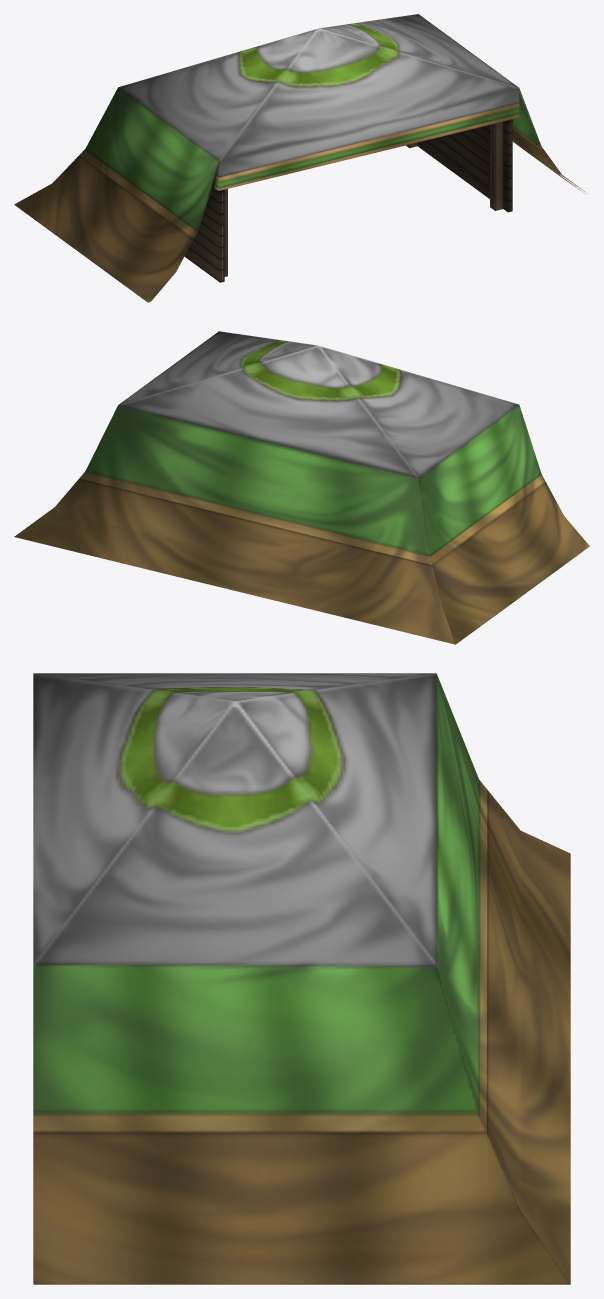
The model's file is tent_magic.fbx.
3 renders of one model, top to bottom at view 1: azimuth 30°, elevation 25°; view 2: azimuth 150°, elevation 25°; view 3: azimuth 270°, elevation 25°, orthographic. The views are drawn at different scales.
Visible parts, largest first — view 1: Magic_tent; view 2: Magic_tent; view 3: Magic_tent.
Part boxes in pixels (bbox=[...]): Magic_tent: bbox=[14, 14, 584, 302]; Magic_tent: bbox=[14, 331, 589, 644]; Magic_tent: bbox=[33, 673, 570, 1284].
Size of the model in its own units: 10.22 by 4.04 by 5.38.
